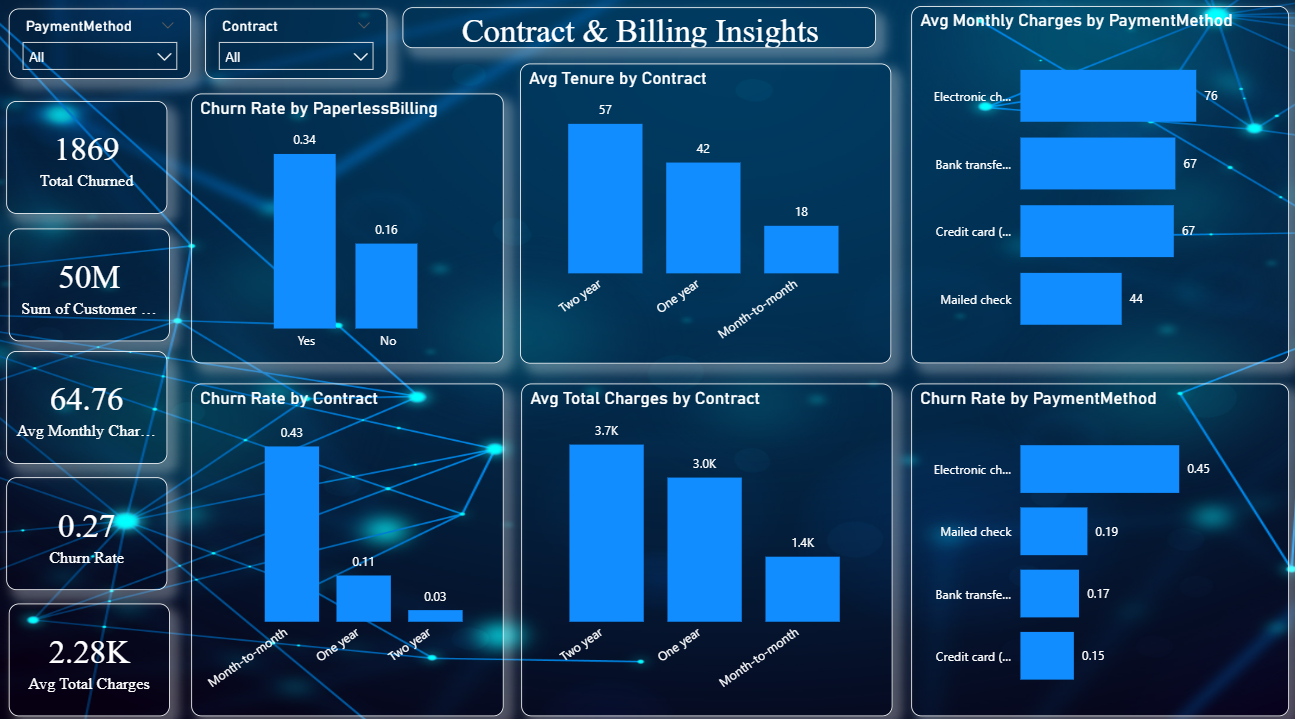

The dashboard page shown, as its layout file describes it:
{"tool":"powerbi","page":{"name":"Contract & Billing Insights","canvas":[1280,720],"ordinal":2},"visuals":[{"type":"textbox","title":"Contract & Billing Insights","box":[398.6,11,463.5,40.4],"z":0},{"type":"clusteredColumnChart","fields":{"Category":["Customer Churn Analysis.Contract"],"Y":["Customer Churn Analysis.Churn Rate"]},"box":[192,379.1,305.7,325.3],"z":1000},{"type":"barChart","fields":{"Category":["Customer Churn Analysis.PaymentMethod"],"Y":["Customer Churn Analysis.Churn Rate"]},"box":[896.3,379.1,369.3,325.3],"z":2000},{"type":"columnChart","fields":{"Category":["Customer Churn Analysis.Contract"],"Y":["Customer Churn Analysis.Avg Total Charges"]},"box":[514.8,379.1,363.2,325.3],"z":3000},{"type":"barChart","fields":{"Category":["Customer Churn Analysis.PaymentMethod"],"Y":["Customer Churn Analysis.Avg Monthly Charges"]},"box":[896.3,9.8,369.3,349.7],"z":4000},{"type":"clusteredColumnChart","fields":{"Y":["Customer Churn Analysis.Churn Rate"],"Category":["Customer Churn Analysis.PaperlessBilling"]},"box":[192,95.4,305.7,264.1],"z":5000},{"type":"clusteredColumnChart","fields":{"Category":["Customer Churn Analysis.Contract"],"Y":["Customer Churn Analysis.Avg Tenure"]},"box":[513.6,66,363.2,293.5],"z":6000},{"type":"slicer","fields":{"Values":["Customer Churn Analysis.PaymentMethod"]},"box":[13.5,12.2,178.5,68.5],"z":7000},{"type":"card","fields":{"Values":["Sum(Customer Churn Analysis.Customer Count)"]},"box":[13.5,227.4,157.7,110.1],"z":8000},{"type":"card","fields":{"Values":["Customer Churn Analysis.Churn Rate"]},"box":[11,470.8,157.7,110.1],"z":9000},{"type":"card","fields":{"Values":["Customer Churn Analysis.Total Churned"]},"box":[11,102.7,157.7,110.1],"z":10000},{"type":"card","fields":{"Values":["Customer Churn Analysis.Avg Monthly Charges"]},"box":[11,347.3,157.7,110.1],"z":11000},{"type":"card","fields":{"Values":["Customer Churn Analysis.Avg Total Charges"]},"box":[13.5,594.3,157.7,110.1],"z":12000},{"type":"slicer","fields":{"Values":["Customer Churn Analysis.Contract"]},"box":[205.4,12.2,178.5,68.5],"z":13000}]}

Visuals, with their boxes in screenshot pixels (x1, y1, x2, y2), scaled from the page's 1280x720 canvas onto the 1295x719 screenshot:
"Contract & Billing Insights" textbox: (403, 11, 872, 51)
clusteredColumnChart - Customer Churn Analysis.Contract x Customer Churn Analysis.Churn Rate: (194, 379, 504, 703)
barChart - Customer Churn Analysis.PaymentMethod x Customer Churn Analysis.Churn Rate: (907, 379, 1280, 703)
columnChart - Customer Churn Analysis.Contract x Customer Churn Analysis.Avg Total Charges: (521, 379, 888, 703)
barChart - Customer Churn Analysis.PaymentMethod x Customer Churn Analysis.Avg Monthly Charges: (907, 10, 1280, 359)
clusteredColumnChart - Customer Churn Analysis.Churn Rate x Customer Churn Analysis.PaperlessBilling: (194, 95, 504, 359)
clusteredColumnChart - Customer Churn Analysis.Contract x Customer Churn Analysis.Avg Tenure: (520, 66, 887, 359)
slicer - Customer Churn Analysis.PaymentMethod: (14, 12, 194, 81)
card - Sum(Customer Churn Analysis.Customer Count): (14, 227, 173, 337)
card - Customer Churn Analysis.Churn Rate: (11, 470, 171, 580)
card - Customer Churn Analysis.Total Churned: (11, 103, 171, 213)
card - Customer Churn Analysis.Avg Monthly Charges: (11, 347, 171, 457)
card - Customer Churn Analysis.Avg Total Charges: (14, 593, 173, 703)
slicer - Customer Churn Analysis.Contract: (208, 12, 388, 81)
